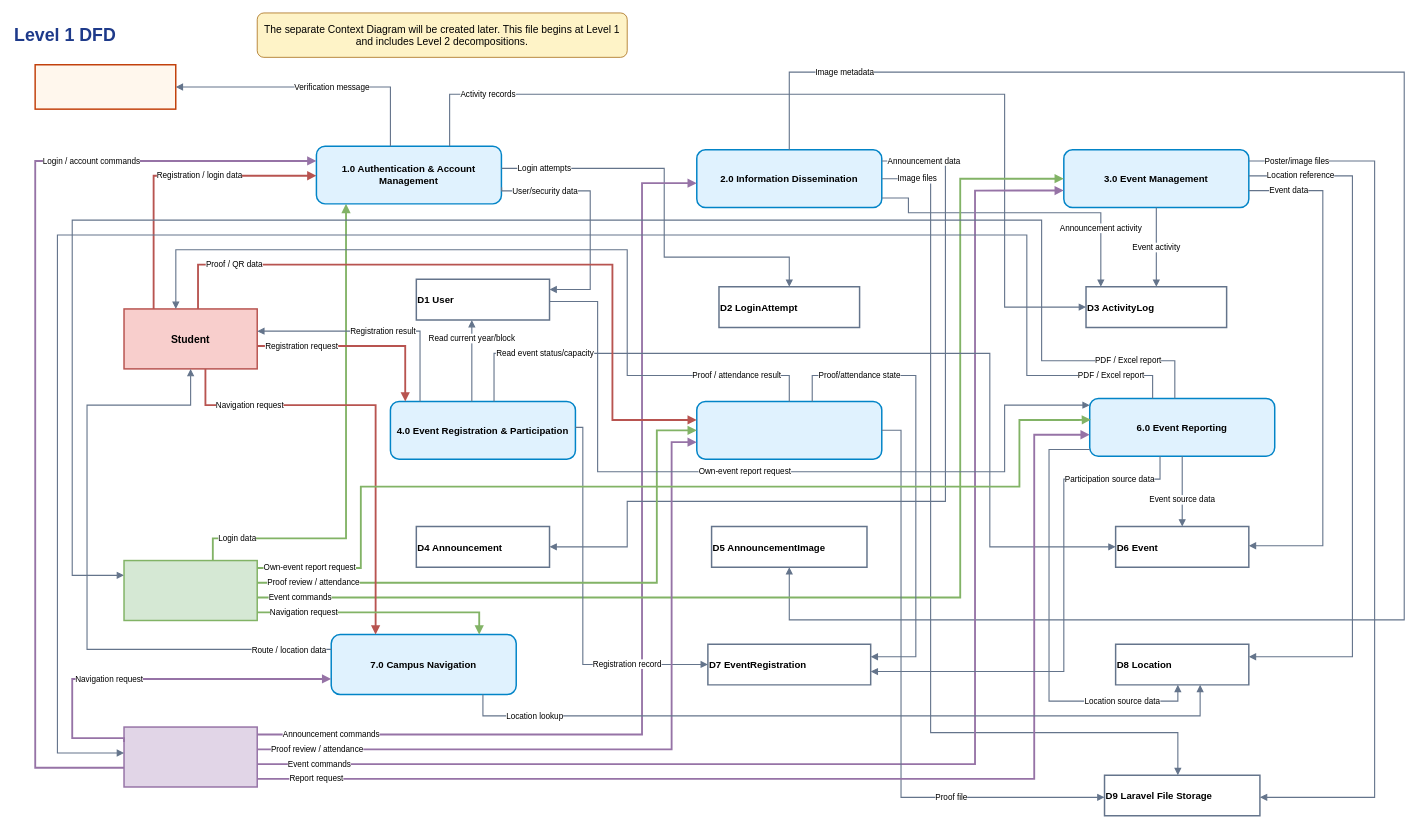
This 1423x830 diagram has some shape labels left out. Here are the shapes that lost their labels. From the top down, the centre of each, then its label:
At pixel 105 87: "Mail Provider".
At pixel 789 430: "5.0 Proof & Attendance Management".
At pixel 190 590: "Faculty".
At pixel 190 756: "Admin".
